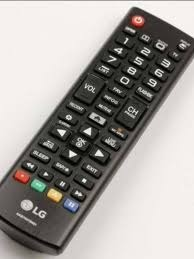remote control: (2, 6, 194, 259)
